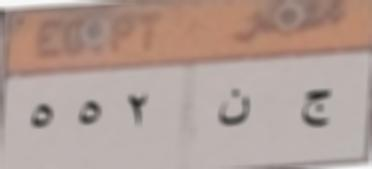2: (124, 82, 159, 134)
5: (24, 99, 62, 132), (76, 92, 106, 130)
jeem: (296, 70, 338, 139)
noon: (213, 82, 255, 134)
